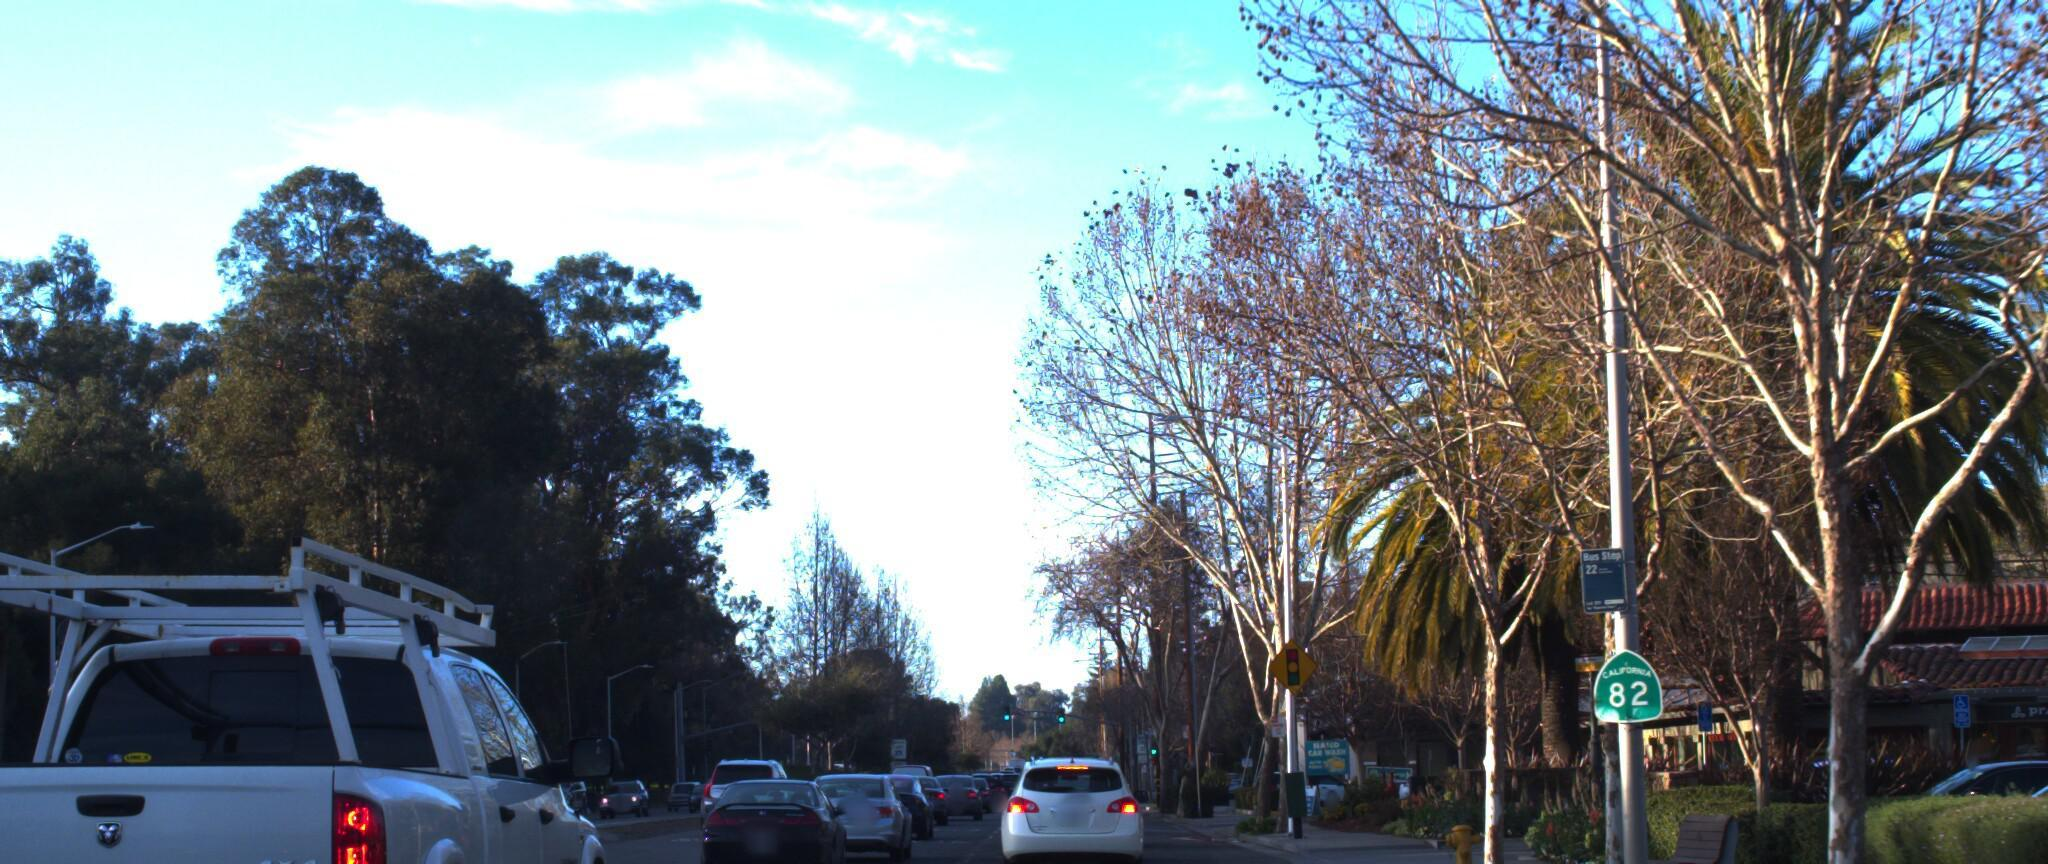car: (0, 504, 631, 864), (993, 732, 1149, 864), (697, 750, 850, 864), (793, 747, 916, 854), (0, 750, 101, 864)
